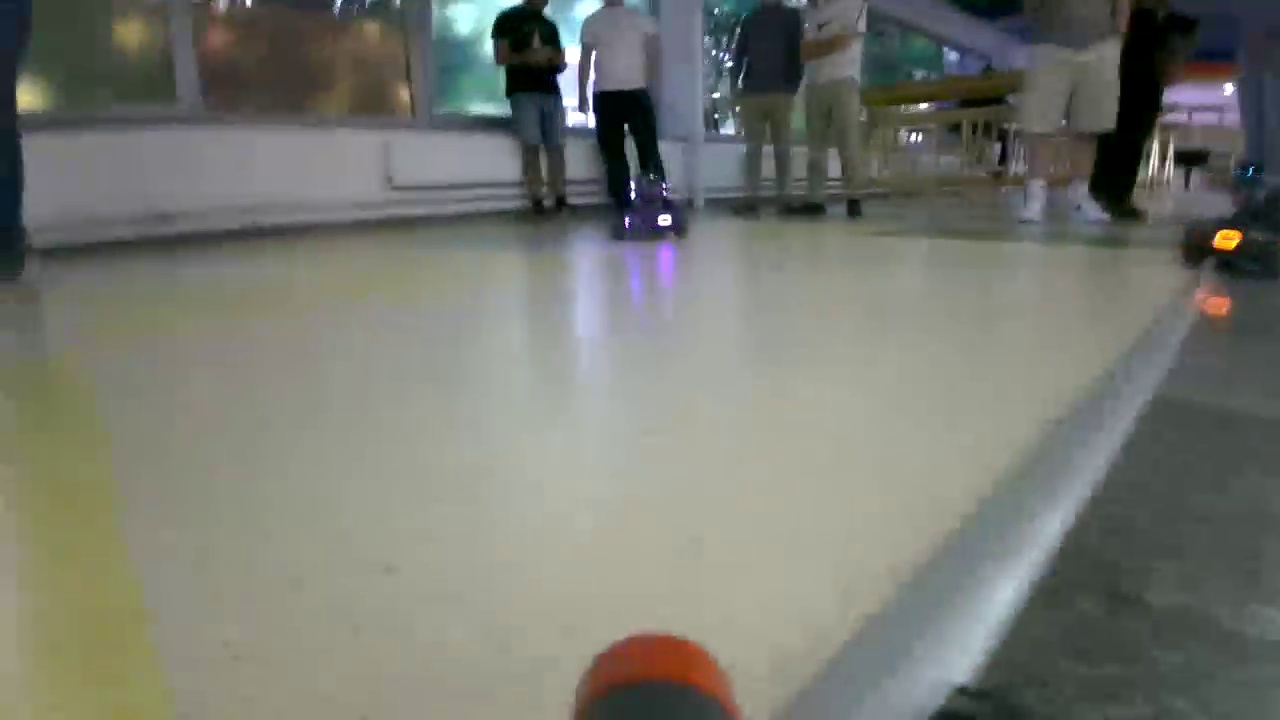robot: (1184, 175, 1280, 272), (609, 170, 690, 238)
